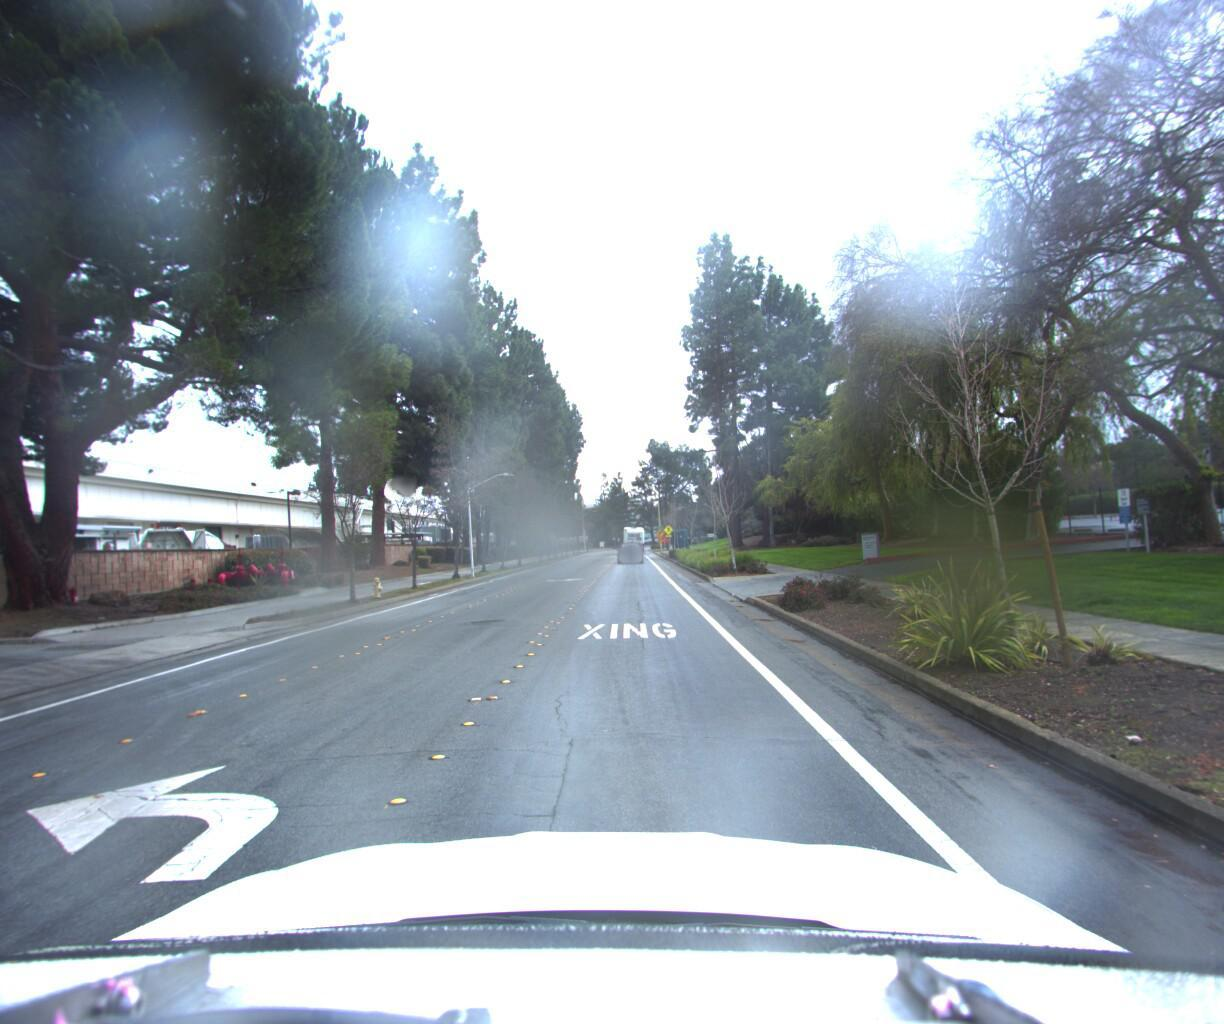car: (616, 542, 644, 568)
